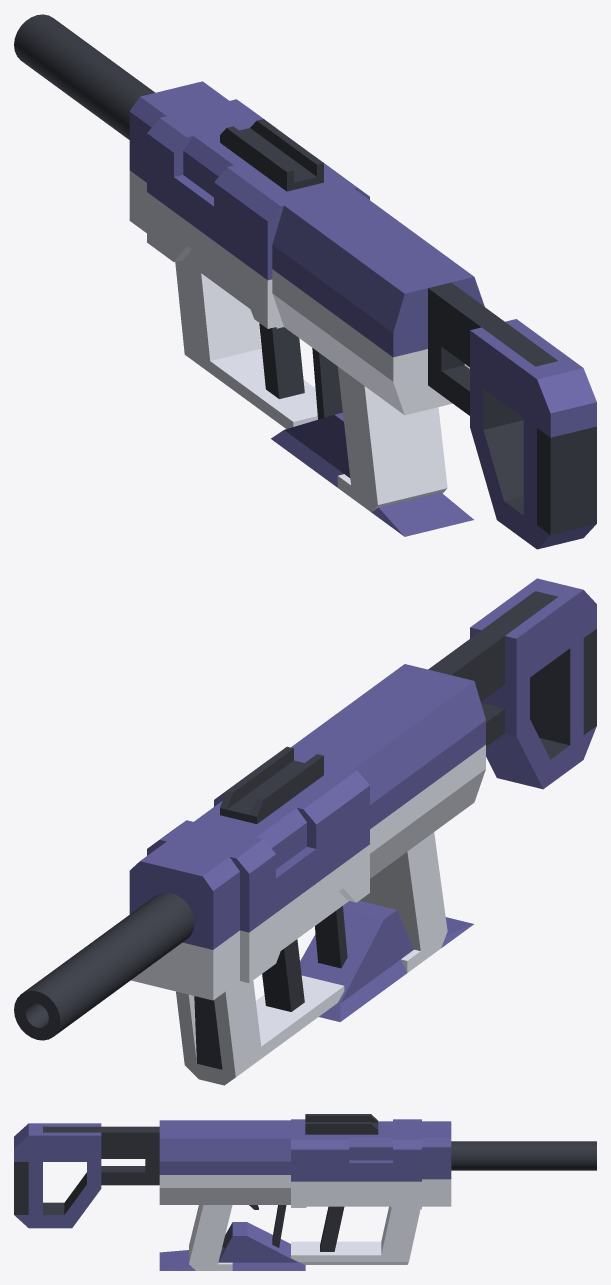
File: GunIronSights.glb
The picture shows the model from 3 angles, top to bottom: view 1: azimuth 30°, elevation 25°; view 2: azimuth 150°, elevation 25°; view 3: azimuth 270°, elevation 25°; orthographic projection. The views are drawn at different scales.
Visible parts, largest first — view 1: mergedBlocks(Clone); view 2: mergedBlocks(Clone); view 3: mergedBlocks(Clone).
Boxes of the visible parts, left/top/right/bottom form: mergedBlocks(Clone): left=14, top=14, right=596, bottom=549; mergedBlocks(Clone): left=14, top=578, right=596, bottom=1085; mergedBlocks(Clone): left=14, top=1114, right=596, bottom=1270.
Bounding box in the file's own units: 0.088 × 0.216 × 0.8.
